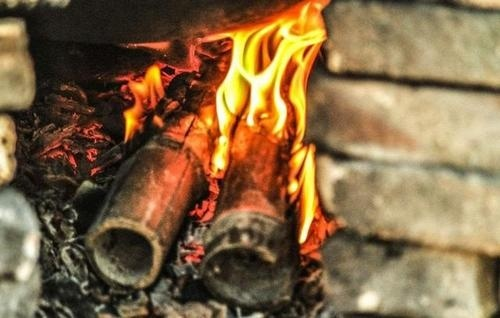fire: (205, 5, 331, 162), (284, 139, 327, 245)
